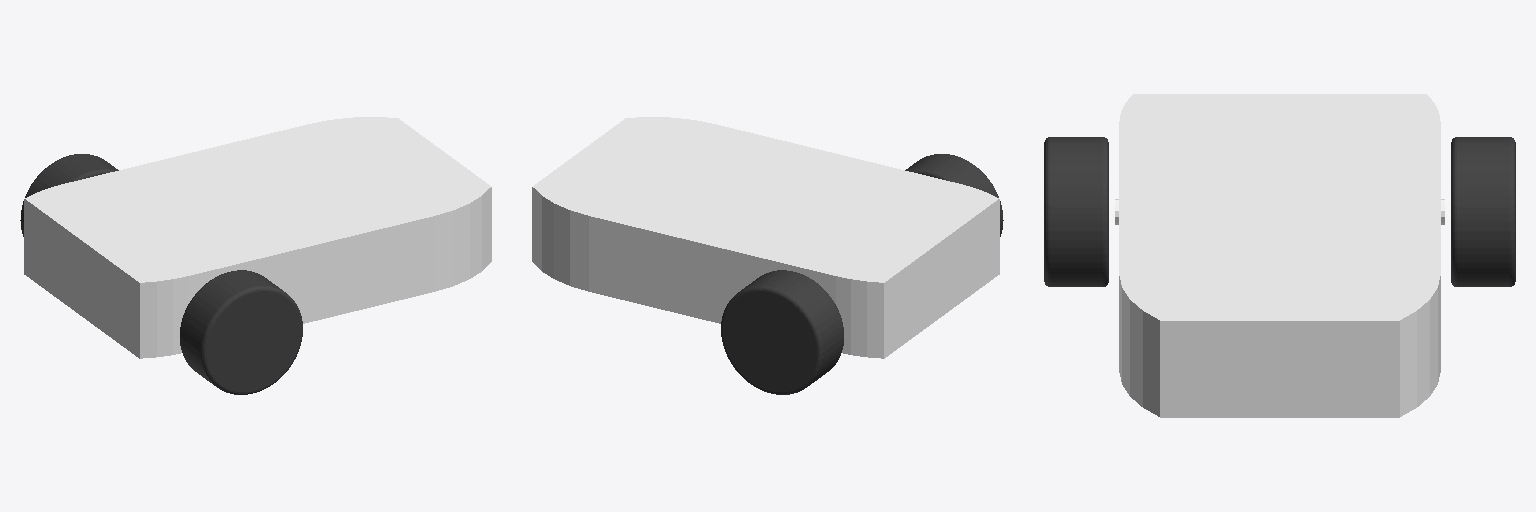
robot.urdf — montyurdf:
<?xml version="1.0" encoding="utf-8"?>
<!-- This URDF was automatically created by SolidWorks to URDF Exporter! Originally created by [author] ([email redacted]) 
     Commit Version: 1.6.0-4-g7f85cfe  Build Version: 1.6.7995.38578
     For more information, please see http://wiki.ros.org/sw_urdf_exporter -->
<robot
  name="montyurdf">
  <link
    name="base_link">
    <inertial>
      <origin
        xyz="0.00200827848538973 1.38777878078145E-17 0.0248803053149128"
        rpy="0 0 0" />
      <mass
        value="1.88328535462952" />
      <inertia
        ixx="0.00380488197395567"
        ixy="-2.51785616917292E-18"
        ixz="1.87010383014531E-05"
        iyy="0.00993131373336837"
        iyz="-1.43773143418147E-20"
        izz="0.0129409263196975" />
    </inertial>
    <visual>
      <origin
        xyz="0 0 0"
        rpy="0 0 0" />
      <geometry>
        <mesh
          filename="package://montyurdf/meshes/base_link.STL" />
      </geometry>
      <material
        name="">
        <color
          rgba="1 1 1 1" />
      </material>
    </visual>
    <collision>
      <origin
        xyz="0 0 0"
        rpy="0 0 0" />
      <geometry>
        <mesh
          filename="package://montyurdf/meshes/base_link.STL" />
      </geometry>
    </collision>
  </link>
  <link
    name="left_wheel_link">
    <inertial>
      <origin
        xyz="-5.55111512312578E-17 2.77555756156289E-17 -1.38777878078145E-17"
        rpy="0 0 0" />
      <mass
        value="0.11487302445888" />
      <inertia
        ixx="4.35510284479888E-05"
        ixy="9.54295386760082E-20"
        ixz="-1.70736763465032E-37"
        iyy="7.00262974944061E-05"
        iyz="-1.46936793852786E-36"
        izz="4.35510284479888E-05" />
    </inertial>
    <visual>
      <origin
        xyz="0 0 0"
        rpy="0 0 0" />
      <geometry>
        <mesh
          filename="package://montyurdf/meshes/left_wheel_link.STL" />
      </geometry>
      <material
        name="">
        <color
          rgba="0.298039215686275 0.298039215686275 0.298039215686275 1" />
      </material>
    </visual>
    <collision>
      <origin
        xyz="0 0 0"
        rpy="0 0 0" />
      <geometry>
        <mesh
          filename="package://montyurdf/meshes/left_wheel_link.STL" />
      </geometry>
    </collision>
  </link>
  <joint
    name="leftWheelJoint"
    type="continuous">
    <origin
      xyz="-0.066858 0.095 0.015"
      rpy="0 0 0" />
    <parent
      link="base_link" />
    <child
      link="left_wheel_link" />
    <axis
      xyz="0 1 0" />
    <limit
      effort="1"
      velocity="1" />
  </joint>
  <link
    name="right_wheel_link">
    <inertial>
      <origin
        xyz="-5.55111512312578E-17 3.46944695195361E-18 0"
        rpy="0 0 0" />
      <mass
        value="0.11487302445888" />
      <inertia
        ixx="4.35510284479888E-05"
        ixy="9.67437890580536E-20"
        ixz="-1.7073676346503E-37"
        iyy="7.00262974944061E-05"
        iyz="-3.67341984631964E-37"
        izz="4.35510284479888E-05" />
    </inertial>
    <visual>
      <origin
        xyz="0 0 0"
        rpy="0 0 0" />
      <geometry>
        <mesh
          filename="package://montyurdf/meshes/right_wheel_link.STL" />
      </geometry>
      <material
        name="">
        <color
          rgba="0.298039215686275 0.298039215686275 0.298039215686275 1" />
      </material>
    </visual>
    <collision>
      <origin
        xyz="0 0 0"
        rpy="0 0 0" />
      <geometry>
        <mesh
          filename="package://montyurdf/meshes/right_wheel_link.STL" />
      </geometry>
    </collision>
  </link>
  <joint
    name="rightWheelJoint"
    type="continuous">
    <origin
      xyz="-0.066858 -0.095 0.015"
      rpy="0 0 0" />
    <parent
      link="base_link" />
    <child
      link="right_wheel_link" />
    <axis
      xyz="0 1 0" />
    <limit
      effort="1"
      velocity="1" />
  </joint>
</robot>

--- Render facts (derived) ---
The picture shows the robot from 3 angles, left to right: view 1: azimuth 30°, elevation 25°; view 2: azimuth 150°, elevation 25°; view 3: azimuth 270°, elevation 25°; orthographic projection.
Robot: montyurdf — 3 links, 2 joints (2 continuous); root link base_link; default pose: every joint at zero.
Links seen in each view (by area): view 1: base_link, right_wheel_link, left_wheel_link; view 2: base_link, left_wheel_link, right_wheel_link; view 3: base_link, left_wheel_link, right_wheel_link.
Link boxes in pixels (box(x1,y1,x2,y2)): base_link: box(24, 117, 491, 358); right_wheel_link: box(180, 270, 302, 394); left_wheel_link: box(20, 154, 118, 236); base_link: box(532, 117, 999, 358); left_wheel_link: box(721, 270, 843, 394); right_wheel_link: box(905, 154, 1003, 236); base_link: box(1115, 94, 1444, 417); left_wheel_link: box(1451, 137, 1515, 286); right_wheel_link: box(1044, 137, 1108, 286).
Size in the robot's own frame: 0.25 by 0.22 by 0.07 metres.
Meshes: 3 distinct files referenced, 3 mesh visuals loaded (3 binary STL).
